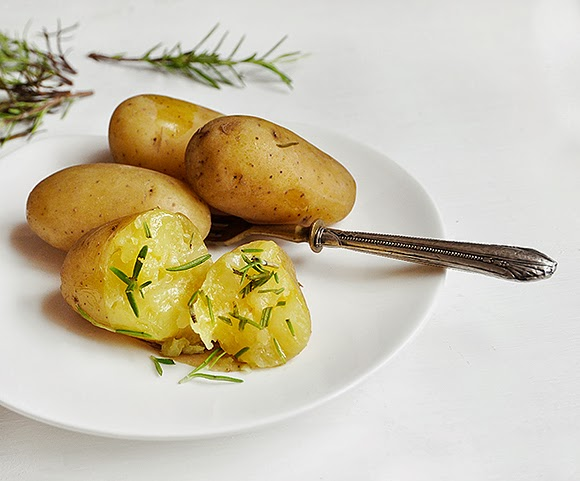boiled potatoes: (59, 214, 303, 353)
